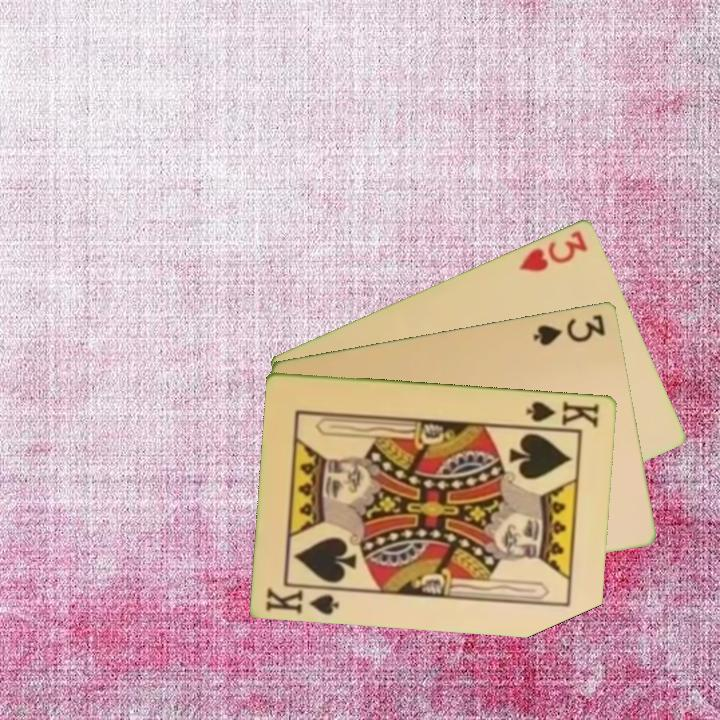3h: (515, 226, 590, 274)
3s: (530, 310, 609, 348)
Ks: (262, 581, 346, 618), (523, 397, 603, 430)
